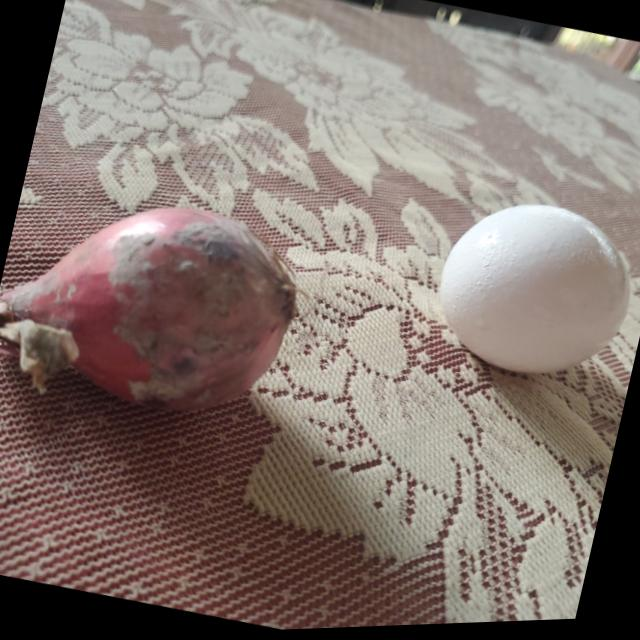egg: (427, 191, 640, 402)
onion: (0, 176, 307, 442)
